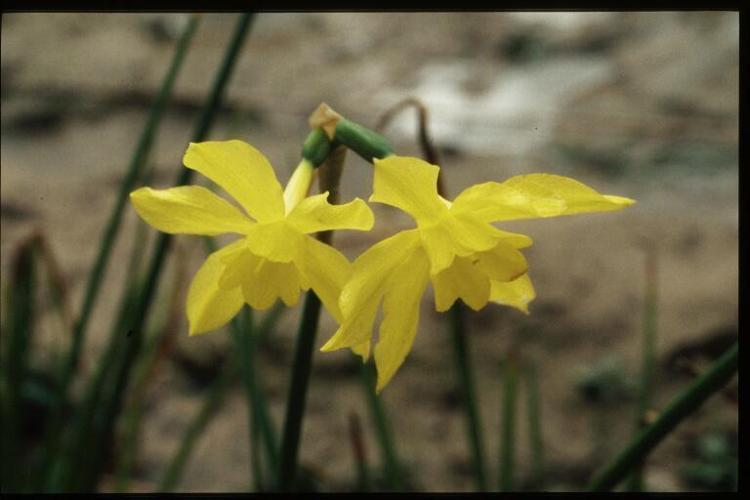flower1: (336, 153, 637, 393), (130, 138, 375, 336)
